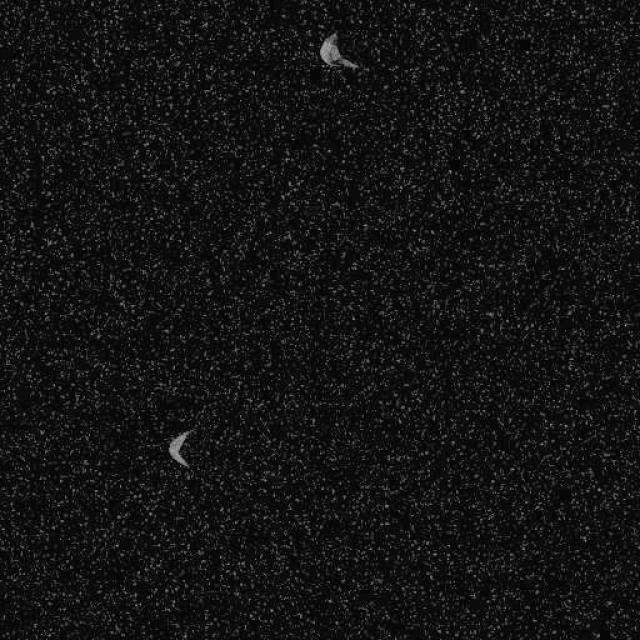D2: (318, 30, 360, 70), (166, 426, 196, 470)
